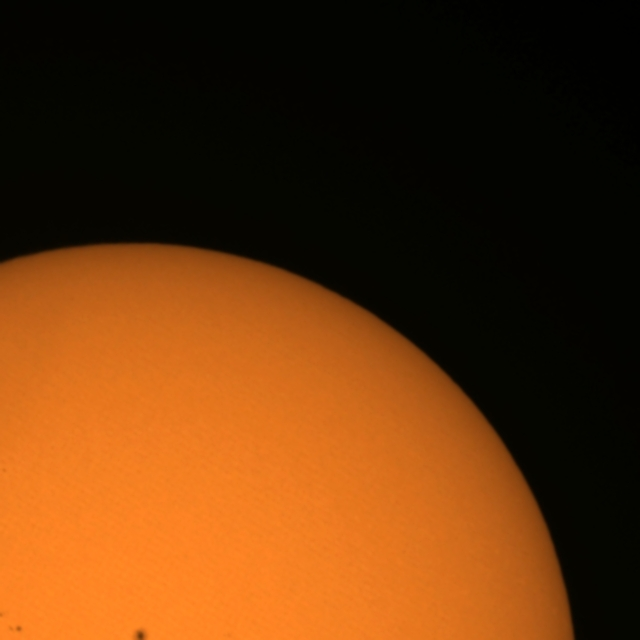sunspot: (1, 612, 25, 637), (130, 627, 152, 640), (6, 622, 25, 636), (0, 466, 8, 475)
